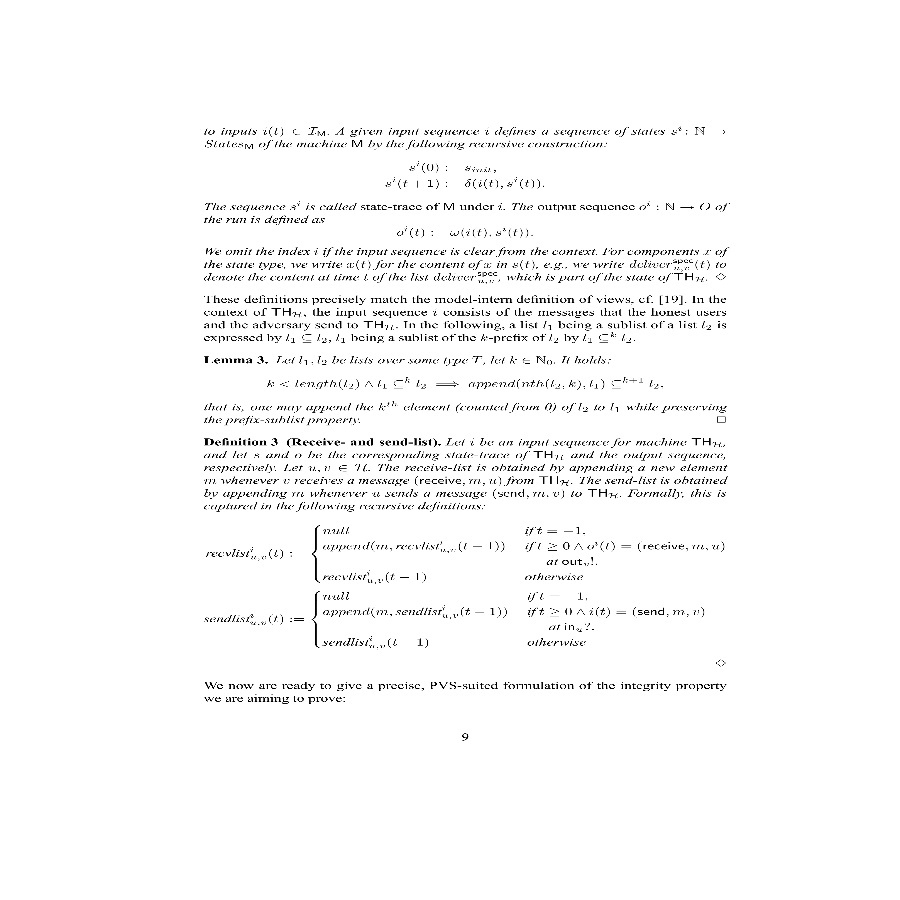eq: (201, 521, 726, 650), (257, 372, 667, 393), (376, 158, 548, 196), (378, 224, 540, 242)
